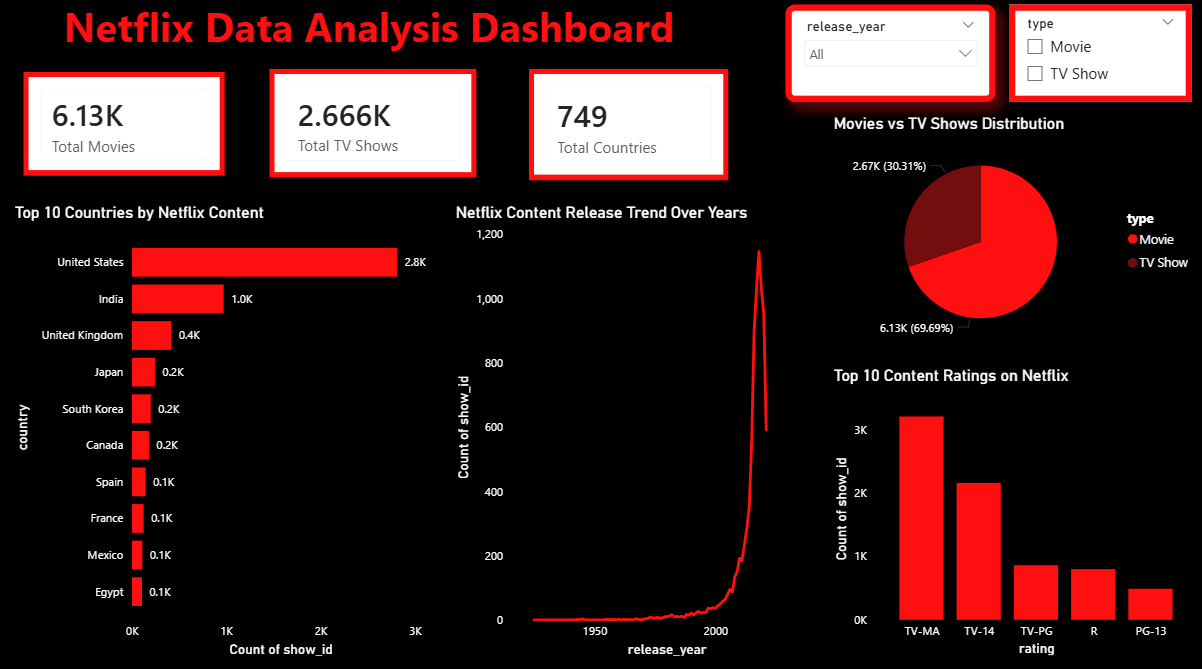

Layout of this report page (visuals, bound fields, positions):
{"tool":"powerbi","page":{"name":"Dashboard","canvas":[1280,720],"ordinal":0},"visuals":[{"type":"cardVisual","fields":{"Data":["CountNonNull(netflix_titles.type)"]},"box":[30.2,82.7,213.1,109.8],"z":0},{"type":"cardVisual","fields":{"Data":["CountNonNull(netflix_titles.type)"]},"box":[291.1,79.5,219.5,114.5],"z":1},{"type":"cardVisual","fields":{"Data":["Count(netflix_titles.country)"]},"box":[566.3,79.5,211.6,117.7],"z":2},{"type":"clusteredBarChart","title":"Top 10 Countries by Netflix Content ","fields":{"Category":["netflix_titles.country"],"Y":["CountNonNull(netflix_titles.show_id)"]},"box":[15.1,221.1,457.3,485.7],"z":3},{"type":"pieChart","title":"Movies vs TV Shows Distribution","fields":{"Category":["netflix_titles.type"],"Y":["CountNonNull(netflix_titles.type)"]},"box":[884.4,126.6,395,251.3],"z":4},{"type":"lineChart","title":"Netflix Content Release Trend Over Years","fields":{"Category":["netflix_titles.release_year"],"Y":["CountNonNull(netflix_titles.show_id)"]},"box":[483.8,221.1,400.6,485.7],"z":5},{"type":"clusteredColumnChart","title":"Top 10 Content Ratings on Netflix","fields":{"Category":["netflix_titles.rating"],"Y":["CountNonNull(netflix_titles.show_id)"]},"box":[884.4,395,395,311.8],"z":6},{"type":"slicer","fields":{"Values":["netflix_titles.type"]},"box":[1075.3,11.1,194.1,103.4],"z":7},{"type":"slicer","fields":{"Values":["netflix_titles.release_year"]},"box":[838.3,11.1,222.7,103.4],"z":8},{"type":"textbox","box":[0,0,793.7,79.5],"z":9}]}

Visuals, with their boxes in screenshot pixels (x1, y1, x2, y2), scaled from the page's 1280x720 canvas onto the 1202x669 screenshot:
cardVisual - CountNonNull(netflix_titles.type): 28,77,228,179
cardVisual - CountNonNull(netflix_titles.type): 273,74,479,180
cardVisual - Count(netflix_titles.country): 532,74,730,183
"Top 10 Countries by Netflix Content " clusteredBarChart: 14,205,444,657
"Movies vs TV Shows Distribution" pieChart: 831,118,1201,351
"Netflix Content Release Trend Over Years" lineChart: 454,205,831,657
"Top 10 Content Ratings on Netflix" clusteredColumnChart: 831,367,1201,657
slicer - netflix_titles.type: 1010,10,1192,106
slicer - netflix_titles.release_year: 787,10,996,106
textbox: 0,0,745,74
